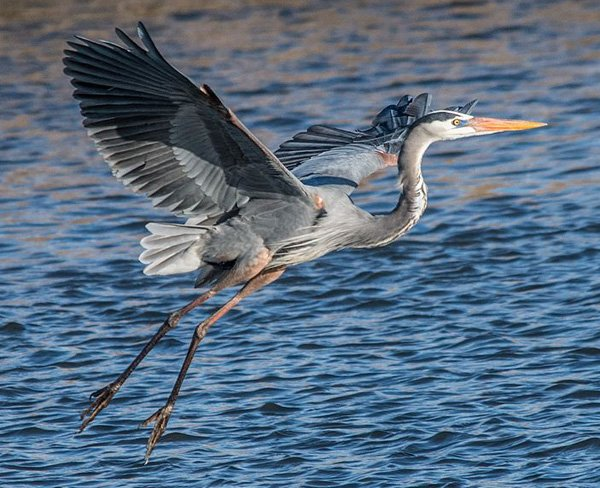heron: (36, 16, 548, 449)
